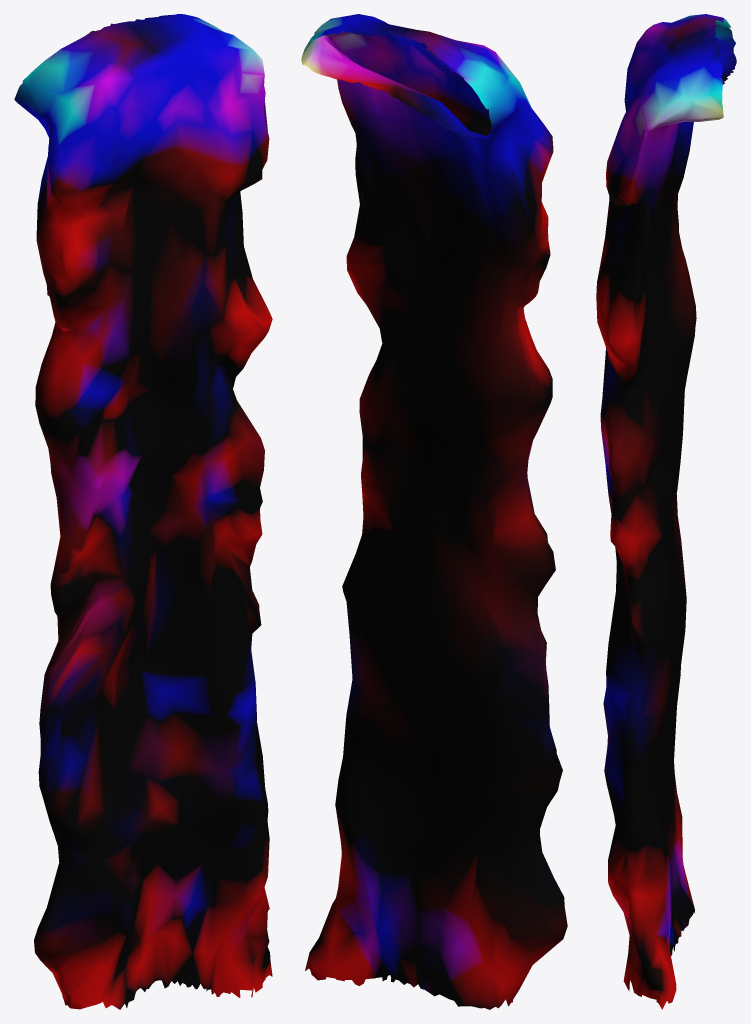
File: Lv4_Waterfall.fbx
3 renders of one model, left to right at view 1: azimuth 30°, elevation 25°; view 2: azimuth 150°, elevation 25°; view 3: azimuth 270°, elevation 25°, orthographic. The views are drawn at different scales.
Visible parts, largest first — view 1: Waterfall; view 2: Waterfall; view 3: Waterfall.
Boxes of the visible parts, x1,y1,x2,y2 form: Waterfall: (14, 14, 272, 1009); Waterfall: (301, 14, 567, 1009); Waterfall: (596, 14, 736, 1009).
Bounding box in the file's own units: 285 × 1067 × 147.
